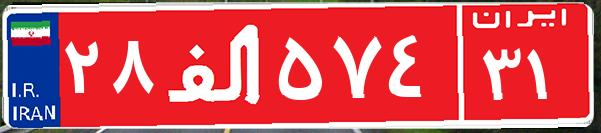1: (525, 38, 570, 115)
2: (57, 26, 110, 107)
3: (475, 38, 525, 113)
4: (385, 28, 445, 110)
5: (273, 28, 330, 110)
7: (330, 28, 385, 110)
8: (110, 28, 158, 105)
الف: (158, 15, 273, 115)
